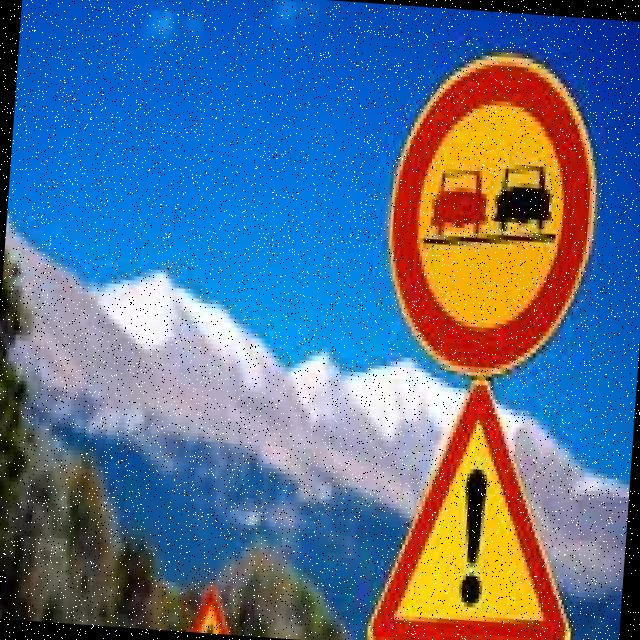no_passing: (372, 26, 620, 389)
warning: (354, 373, 589, 640)
